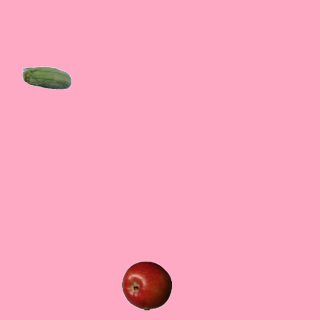Apple Braeburn: (121, 260, 171, 310)
Corn Husk: (21, 54, 71, 104)
